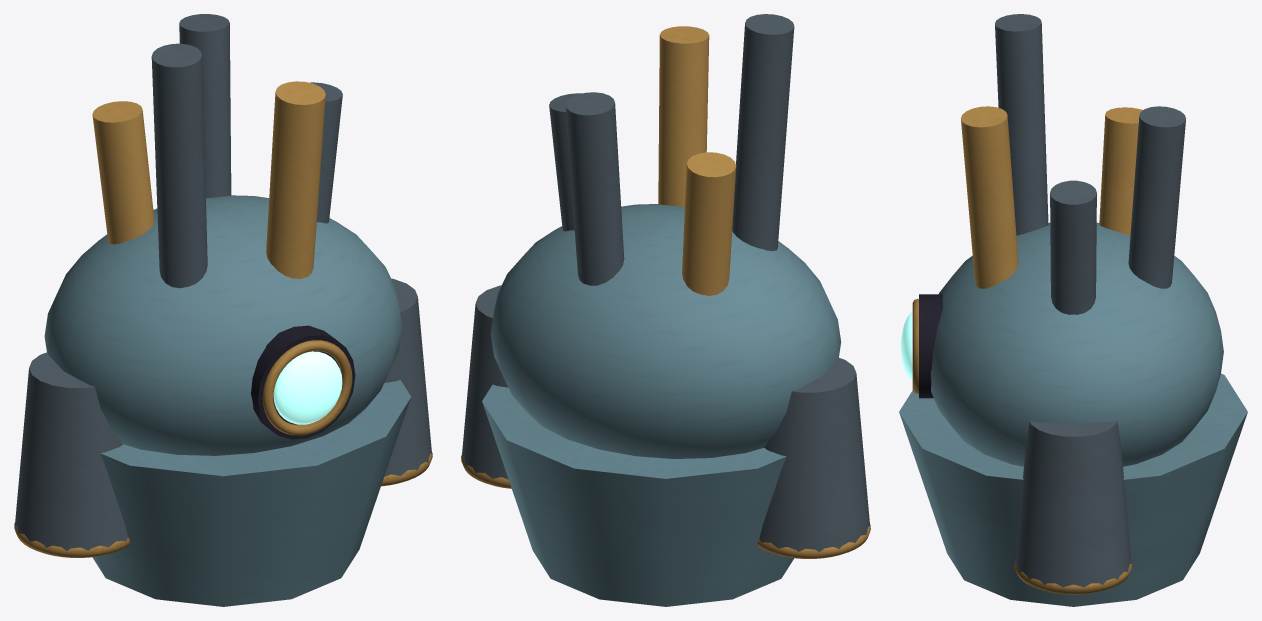
The model's file is plume.glb.
3 views of the same model, side by side, from view 1: azimuth 30°, elevation 25°; view 2: azimuth 150°, elevation 25°; view 3: azimuth 270°, elevation 25° (orthographic). The views are drawn at different scales.
Visible parts, largest first — view 1: Air sampler, Nozzle bank, Sample tube (×5), Jet pod (×2), Optical glass, Barrel, Lens bezel, Exhaust lip; view 2: Air sampler, Nozzle bank, Sample tube (×5), Jet pod (×2), Exhaust lip; view 3: Air sampler, Sample tube (×5), Nozzle bank, Jet pod, Barrel, Exhaust lip, Lens bezel, Optical glass.
Boxes of the visible parts, bbox=[...] form: Air sampler: bbox=[44, 195, 402, 455]; Nozzle bank: bbox=[92, 380, 410, 606]; Sample tube (×5): bbox=[92, 14, 342, 288]; Jet pod (×2): bbox=[15, 278, 431, 550]; Optical glass: bbox=[273, 351, 342, 424]; Barrel: bbox=[251, 325, 355, 439]; Lens bezel: bbox=[262, 340, 352, 435]; Exhaust lip: bbox=[14, 523, 129, 557]; Air sampler: bbox=[490, 204, 841, 458]; Nozzle bank: bbox=[482, 384, 793, 606]; Sample tube (×5): bbox=[549, 14, 794, 295]; Jet pod (×2): bbox=[461, 285, 869, 551]; Exhaust lip: bbox=[757, 524, 870, 558]; Air sampler: bbox=[930, 222, 1223, 466]; Sample tube (×5): bbox=[961, 14, 1185, 314]; Nozzle bank: bbox=[899, 373, 1247, 606]; Jet pod: bbox=[1015, 421, 1131, 587]; Barrel: bbox=[919, 294, 942, 398]; Exhaust lip: bbox=[1014, 562, 1132, 594]; Lens bezel: bbox=[912, 298, 918, 393]; Optical glass: bbox=[901, 312, 912, 380].
Bounding box in the file's own units: 0.716 × 0.9125 × 0.58.
6 materials, 5 textured.
